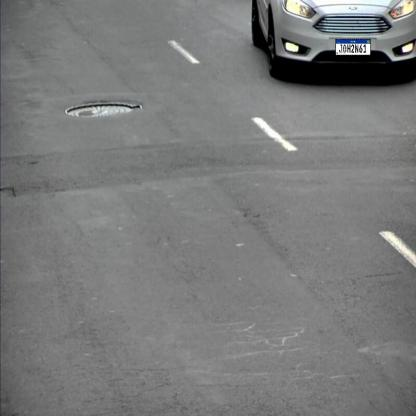PlacaM: (335, 39, 371, 55)
